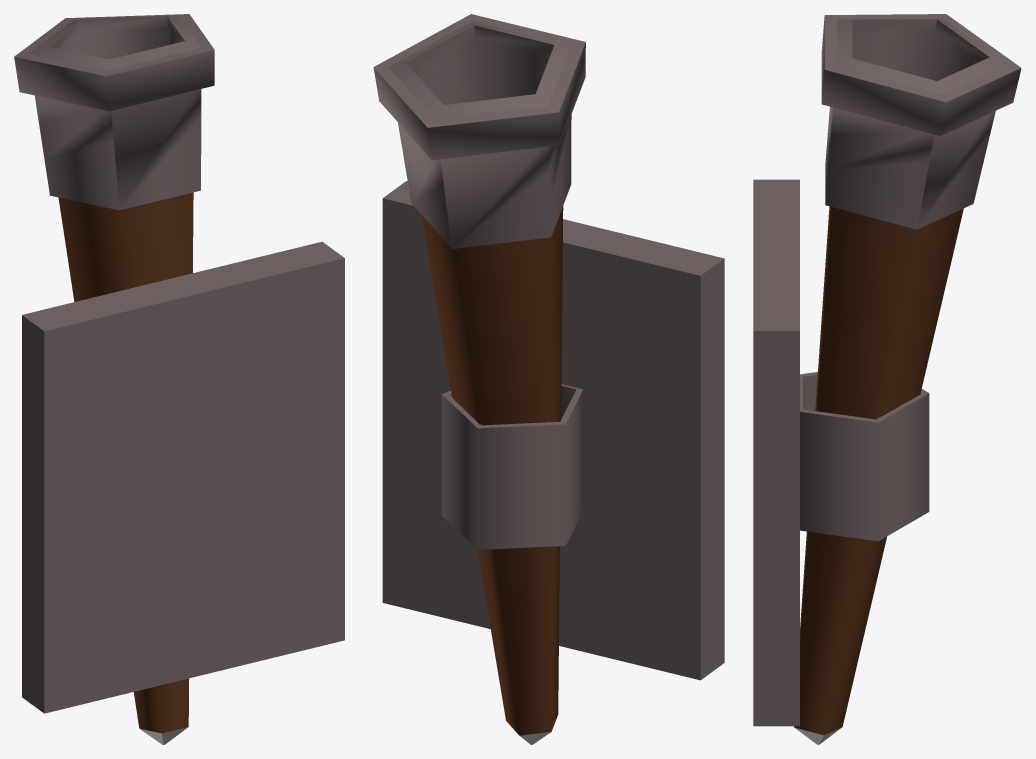
Rendered from torche.fbx.
The picture shows the model from 3 angles, left to right: view 1: azimuth 30°, elevation 25°; view 2: azimuth 150°, elevation 25°; view 3: azimuth 270°, elevation 25°; orthographic projection. The views are drawn at different scales.
Parts seen in each view (by area): view 1: pCylinder50; view 2: pCylinder50; view 3: pCylinder50.
Boxes of the visible parts, x1,y1,x2,y2 form: pCylinder50: (14, 14, 344, 744); pCylinder50: (373, 14, 724, 744); pCylinder50: (753, 14, 1021, 744).
Bounding box in the file's own units: 99.73 × 216 × 74.59.
